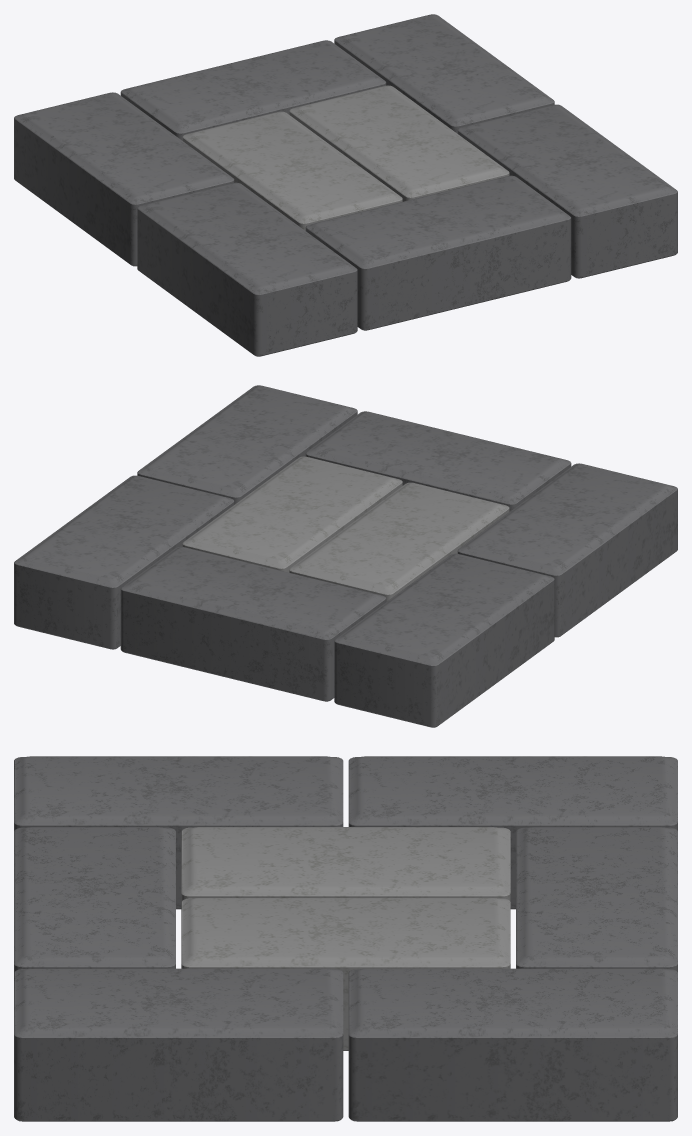
The model's file is encased.glb.
3 views of the same model, one above another, from view 1: azimuth 30°, elevation 25°; view 2: azimuth 150°, elevation 25°; view 3: azimuth 270°, elevation 25° (orthographic). The views are drawn at different scales.
Parts seen in each view (by area): view 1: Colonial Classic.020, Colonial Classic.014, Colonial Classic.021, Colonial Classic.018, Colonial Classic.012, Colonial Classic.017, Colonial Classic.013, Colonial Classic; view 2: Colonial Classic.021, Colonial Classic.012, Colonial Classic.020, Colonial Classic.017, Colonial Classic.014, Colonial Classic.018, Colonial Classic.013, Colonial Classic; view 3: Colonial Classic.017, Colonial Classic.018, Colonial Classic.021, Colonial Classic.020, Colonial Classic, Colonial Classic.013, Colonial Classic.012, Colonial Classic.014.
Boxes of the visible parts, left/top/right/bottom form: Colonial Classic.020: left=137, top=182, right=357, bottom=356; Colonial Classic.014: left=305, top=175, right=571, bottom=330; Colonial Classic.021: left=14, top=92, right=234, bottom=266; Colonial Classic.018: left=457, top=104, right=677, bottom=278; Colonial Classic.012: left=120, top=40, right=386, bottom=140; Colonial Classic.017: left=334, top=14, right=554, bottom=133; Colonial Classic.013: left=182, top=111, right=402, bottom=230; Colonial Classic: left=289, top=85, right=509, bottom=201; Colonial Classic.021: left=334, top=553, right=554, bottom=727; Colonial Classic.012: left=120, top=546, right=386, bottom=701; Colonial Classic.020: left=457, top=463, right=677, bottom=637; Colonial Classic.017: left=14, top=475, right=234, bottom=649; Colonial Classic.014: left=305, top=411, right=571, bottom=511; Colonial Classic.018: left=137, top=385, right=357, bottom=504; Colonial Classic.013: left=289, top=482, right=509, bottom=601; Colonial Classic: left=182, top=456, right=402, bottom=572; Colonial Classic.017: left=348, top=968, right=677, bottom=1121; Colonial Classic.018: left=14, top=968, right=343, bottom=1121; Colonial Classic.021: left=348, top=756, right=677, bottom=909; Colonial Classic.020: left=14, top=756, right=343, bottom=909; Colonial Classic: left=181, top=898, right=510, bottom=1050; Colonial Classic.013: left=181, top=827, right=510, bottom=901; Colonial Classic.012: left=516, top=827, right=677, bottom=972; Colonial Classic.014: left=14, top=827, right=175, bottom=972.
Size of the model in its own units: 0.4032 by 0.0603 by 0.4032.
Materials: 2 (2 with a texture image).
